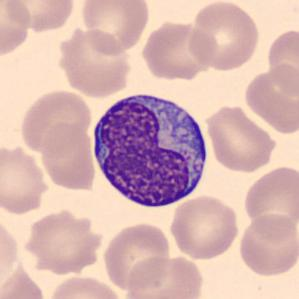Monocyte: (86, 87, 211, 214)
RBC: (54, 24, 135, 99), (20, 207, 105, 275), (186, 0, 261, 72), (204, 102, 278, 174), (17, 87, 94, 156), (101, 219, 172, 292), (168, 193, 241, 261), (140, 17, 215, 83), (241, 163, 298, 242), (39, 120, 98, 193), (242, 62, 299, 136), (236, 212, 298, 278), (79, 0, 151, 56), (0, 140, 50, 217), (123, 253, 205, 299), (264, 26, 299, 101), (3, 0, 77, 34), (46, 273, 123, 299), (0, 1, 33, 61), (0, 258, 48, 299)
